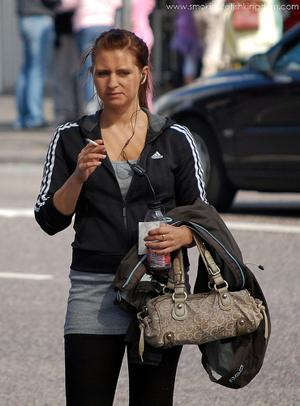person: (33, 27, 211, 403)
